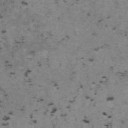oxide scale of temperature system: (2, 12, 117, 128), (5, 39, 36, 78), (21, 0, 29, 6), (64, 35, 70, 40), (0, 30, 7, 34)
